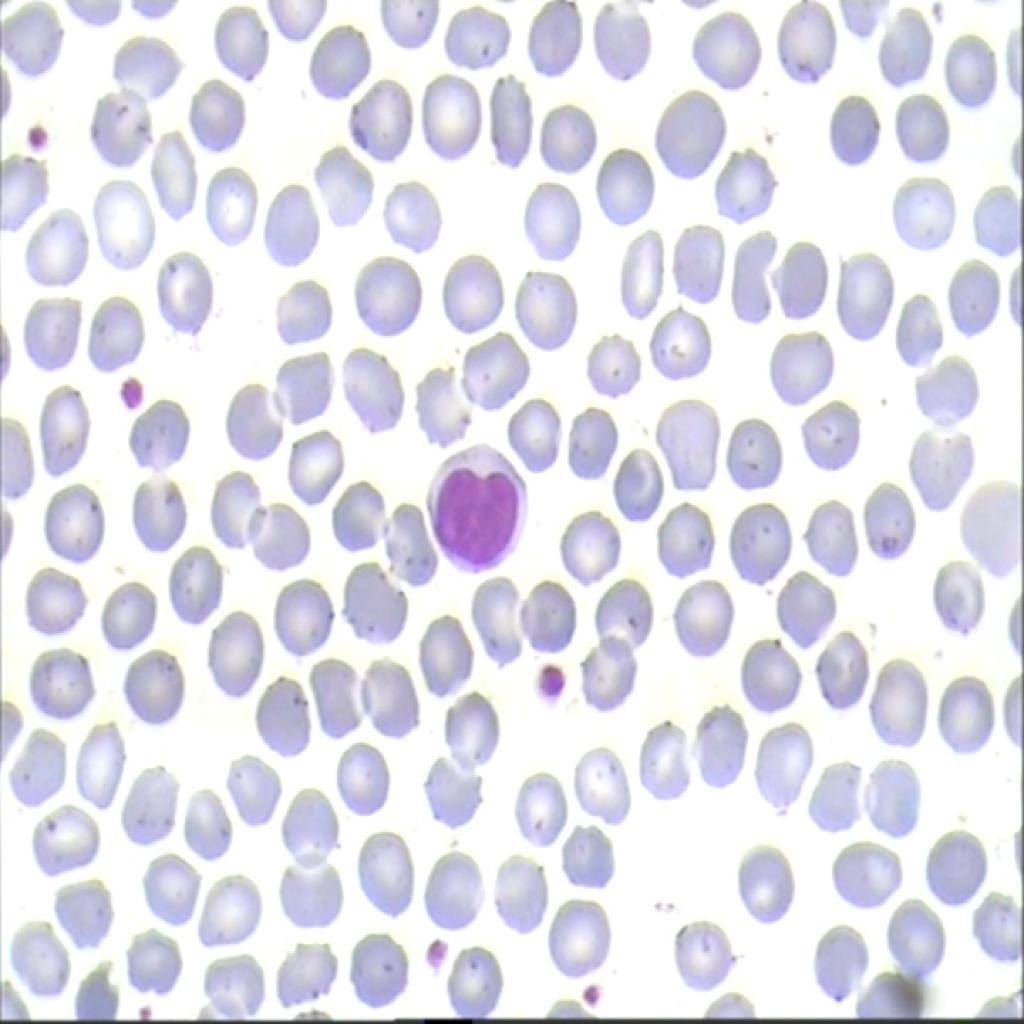Limfosit: (410, 420, 538, 590)
Platelet: (516, 654, 565, 710), (112, 359, 156, 416), (20, 112, 62, 160), (415, 934, 451, 974), (572, 974, 598, 1017)
